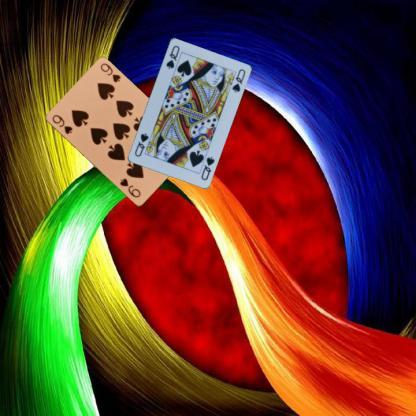9s: (48, 112, 74, 135)
Qs: (198, 154, 216, 182), (164, 43, 180, 70)
